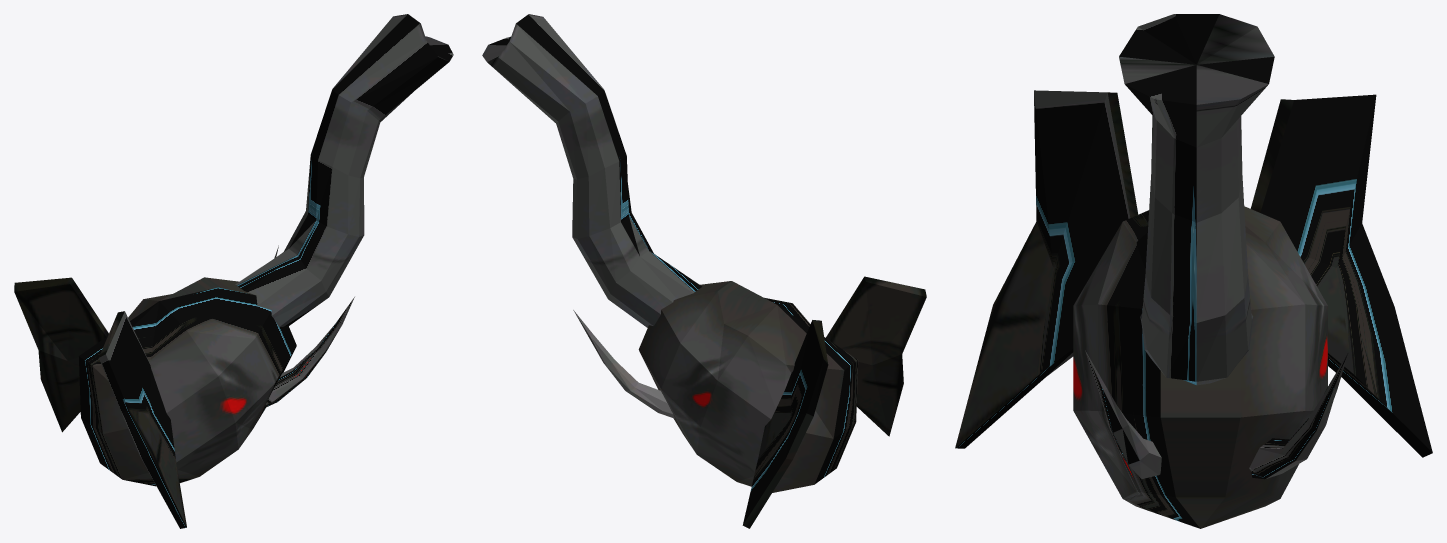
File: Elephant.glb
3 views of the same model, side by side, from view 1: azimuth 30°, elevation 25°; view 2: azimuth 150°, elevation 25°; view 3: azimuth 270°, elevation 25° (orthographic). The views are drawn at different scales.
Visible parts, largest first — view 1: Elephant; view 2: Elephant; view 3: Elephant.
Part boxes in pixels (bbox=[...]): Elephant: bbox=[14, 14, 453, 528]; Elephant: bbox=[482, 14, 926, 528]; Elephant: bbox=[955, 14, 1432, 528].
Size of the model in its own units: 170 by 166 by 100.
Materials: 1 (1 with a texture image).
